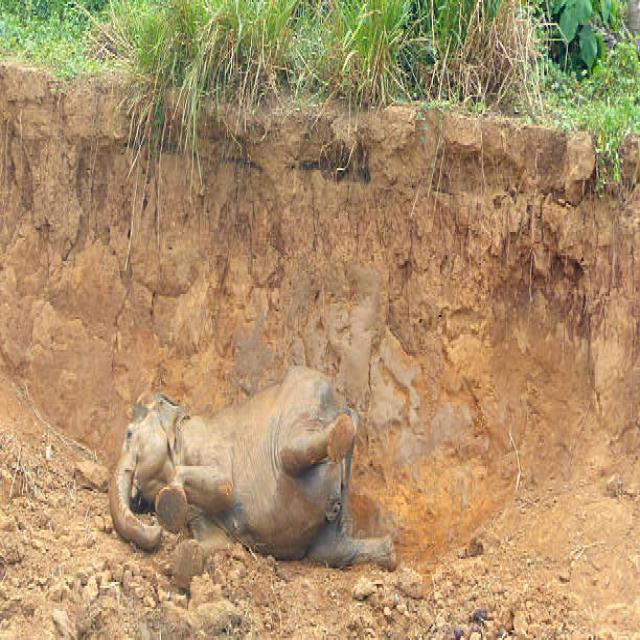Elephant: (110, 364, 402, 578)
